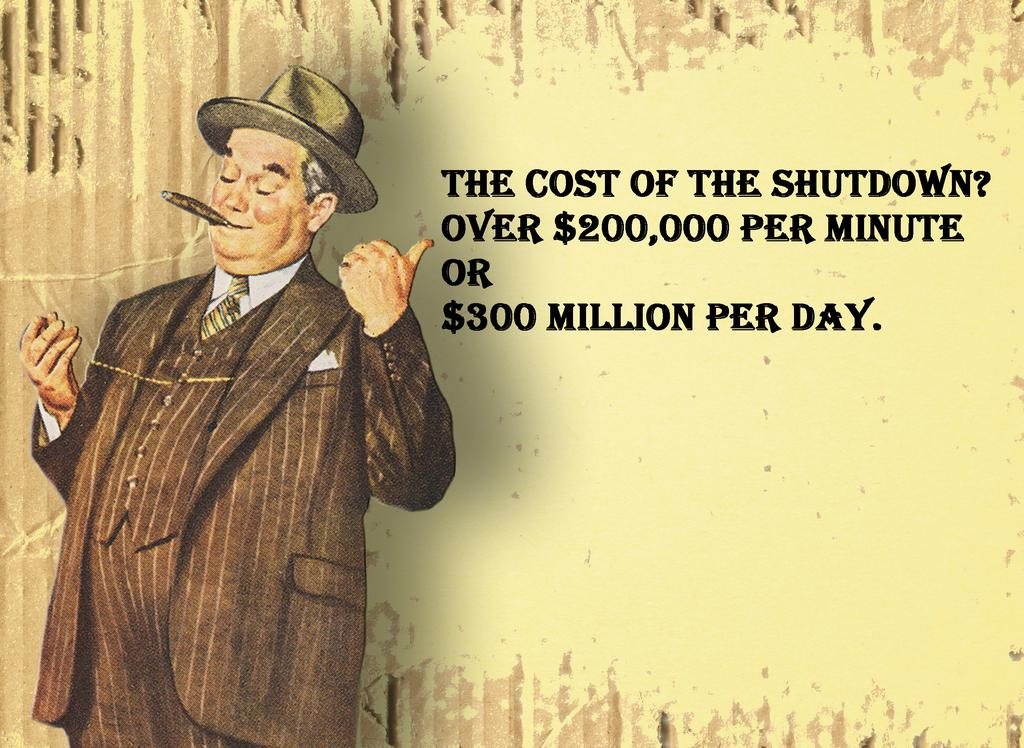Hat: (197, 62, 377, 212)
